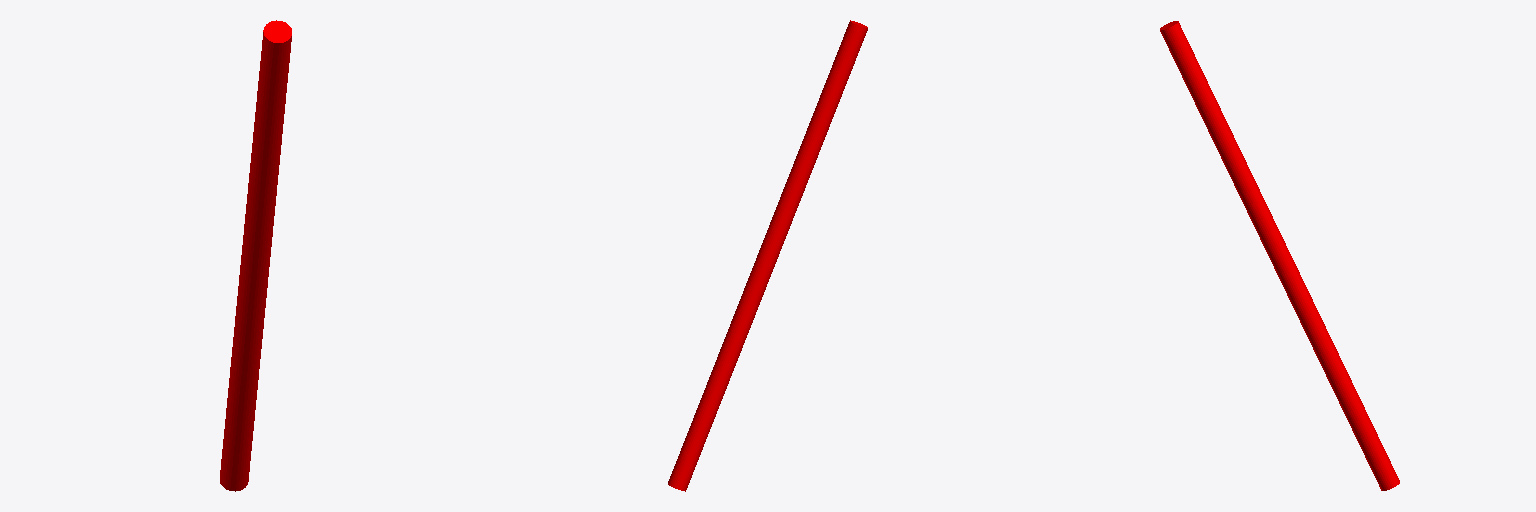
URDF robot description (tree_59.urdf):
<?xml version='1.0' encoding='utf-8'?>
<robot name="tree_59.urdf">
  <link name="branch_0">
    <inertial>
      <origin xyz="0.0 0.0 0.0" rpy="0.0 -0.0 0.0" />
      <mass value="1.0" />
      <inertia ixx="1.0" ixy="0.0" ixz="0.0" iyy="1.0" iyz="0.0" izz="1.0" />
    </inertial>
    <visual name="branch_0_visual">
      <geometry>
        <cylinder radius="0.07042926213561546" length="3.5423134736286865" />
      </geometry>
      <material name="semantic_material" />
      <origin xyz="-0.3104461907392884 -0.7503065158864471 1.5740582839388884" rpy="5.551115123125783e-17 0.4762558598063177 -1.9631074860729136" />
    </visual>
    <collision name="branch_0_collision">
      <geometry>
        <cylinder radius="0.07042926213561546" length="3.5423134736286865" />
      </geometry>
      <origin xyz="-0.3104461907392884 -0.7503065158864471 1.5740582839388884" rpy="5.551115123125783e-17 0.4762558598063177 -1.9631074860729136" />
    </collision>
  </link>
  <material name="semantic_material">
    <color rgba="1. 0. 0. 1." />
  </material>
</robot>

--- What the picture shows (computed from the rendered views, not written in the file) ---
The picture shows the robot from 3 angles, left to right: view 1: azimuth 30°, elevation 25°; view 2: azimuth 150°, elevation 25°; view 3: azimuth 270°, elevation 25°; orthographic projection.
Model tree_59.urdf with 1 links and 0 joints (none), rooted at branch_0, posed all joints at 0.
Visible links, largest first — view 1: branch_0; view 2: branch_0; view 3: branch_0.
Boxes of the visible links, <box> form: branch_0: <box>220,20,291,491</box>; branch_0: <box>668,20,867,491</box>; branch_0: <box>1160,21,1399,490</box>.
Bounding box of the posed robot: 0.7595 × 1.63 × 3.21 m (x, y, z).
Geometry: primitives only (box / cylinder / sphere), no mesh files.